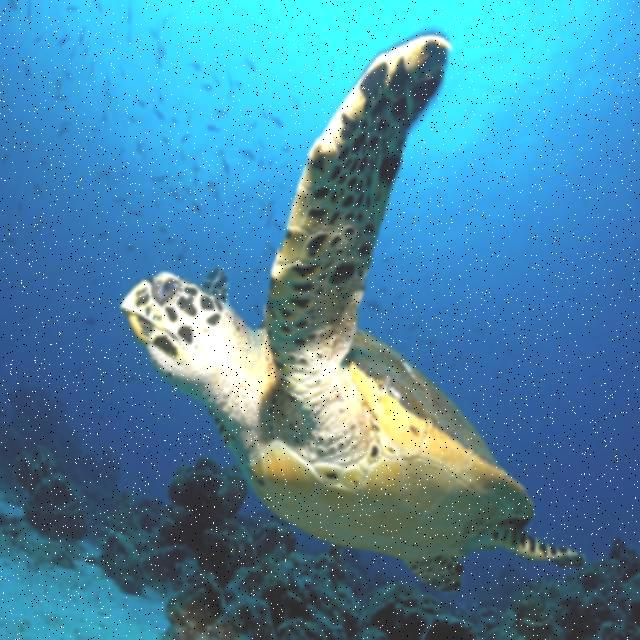tortoise: (120, 32, 562, 586)
